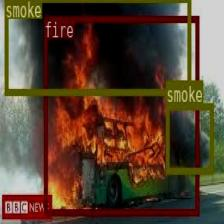fire: (43, 15, 198, 214)
smoke: (4, 0, 190, 93), (165, 102, 212, 172)
